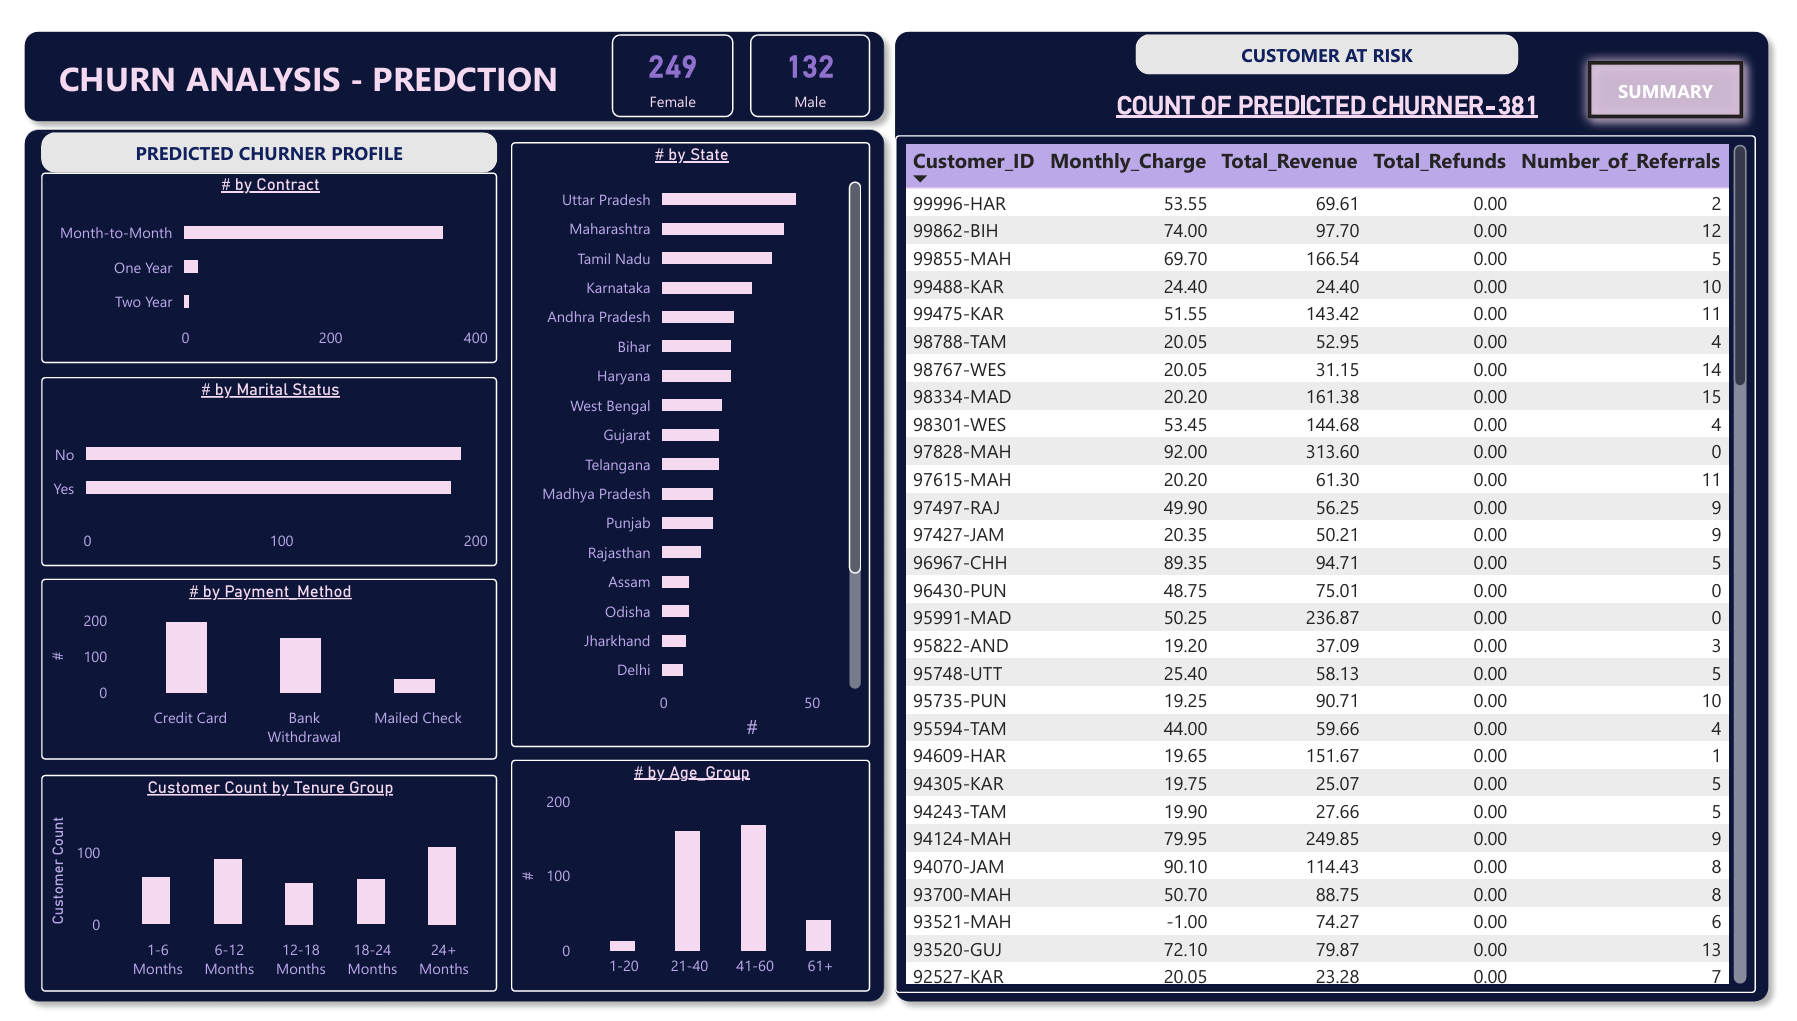

The dashboard page shown, as its layout file describes it:
{"tool":"powerbi","page":{"name":"prediction","canvas":[1280,720],"ordinal":1},"visuals":[{"type":"shape","box":[629.8,0,650.4,720.4],"z":0},{"type":"shape","box":[0,0,639.5,83.2],"z":500},{"type":"tableEx","fields":{"Values":["Prediction.Customer_ID","Prediction.Monthly_Charge","Prediction.Total_Revenue","Prediction.Total_Refunds","Prediction.Number_of_Referrals"]},"box":[639.5,83.7,623,621.6],"z":1000},{"type":"card","fields":{"Values":["Prediction.Title Predicted Churner"]},"box":[783.5,41.2,336.2,42.5],"z":2000},{"type":"shape","box":[0,70.9,639.5,649.3],"z":2500},{"type":"card","fields":{"Values":["Prediction.Count predicted Churner"]},"box":[434.1,11,88,59.9],"z":3000},{"type":"card","fields":{"Values":["Prediction.Count predicted Churner"]},"box":[534.4,11,86.8,59.9],"z":4000},{"type":"columnChart","fields":{"Category":["Mapping_age.Age_Group"],"Y":["CountNonNull(Prediction.Customer_ID)"]},"box":[360.7,535.6,260.5,168.8],"z":5000},{"type":"barChart","fields":{"Category":["Prediction.Married"],"Y":["CountNonNull(Prediction.Customer_ID)"]},"box":[20.8,259.2,330.2,137],"z":6000},{"type":"columnChart","fields":{"Y":["CountNonNull(Prediction.Customer_ID)"],"Category":["Mapping_Tenure.Tenure Group"]},"box":[20.8,546.6,330.2,157.7],"z":7000},{"type":"columnChart","fields":{"Category":["Prediction.Payment_Method"],"Y":["CountNonNull(Prediction.Customer_ID)"]},"box":[20.8,404.8,330.2,130.8],"z":8000},{"type":"barChart","fields":{"Category":["Prediction.Contract"],"Y":["CountNonNull(Prediction.Customer_ID)"]},"box":[20.8,111.3,330.2,138.2],"z":9000},{"type":"barChart","fields":{"Category":["Prediction.State"],"Y":["CountNonNull(Prediction.Customer_ID)"]},"box":[360.7,89.3,260.5,437.8],"z":10000},{"type":"textbox","box":[20.8,20.8,387.6,50.1],"z":10001},{"type":"shape","box":[813.2,11,276.4,29.3],"z":10002},{"type":"shape","box":[20.8,81.9,330.2,29.3],"z":10003},{"type":"actionButton","box":[1131.1,20.8,130.8,59.9],"z":10004}]}

Visuals, with their boxes in screenshot pixels (x1, y1, x2, y2), scaled from the page's 1280x720 canvas onto the 1797x1021 screenshot:
shape: locate(884, 0, 1796, 1020)
shape: locate(0, 0, 898, 118)
tableEx - Prediction.Customer_ID x Prediction.Monthly_Charge: locate(898, 119, 1772, 1000)
card - Prediction.Title Predicted Churner: locate(1100, 58, 1572, 119)
shape: locate(0, 101, 898, 1020)
card - Prediction.Count predicted Churner: locate(609, 16, 733, 101)
card - Prediction.Count predicted Churner: locate(750, 16, 872, 101)
columnChart - Mapping_age.Age_Group x CountNonNull(Prediction.Customer_ID): locate(506, 760, 872, 999)
barChart - Prediction.Married x CountNonNull(Prediction.Customer_ID): locate(29, 368, 493, 562)
columnChart - CountNonNull(Prediction.Customer_ID) x Mapping_Tenure.Tenure Group: locate(29, 775, 493, 999)
columnChart - Prediction.Payment_Method x CountNonNull(Prediction.Customer_ID): locate(29, 574, 493, 760)
barChart - Prediction.Contract x CountNonNull(Prediction.Customer_ID): locate(29, 158, 493, 354)
barChart - Prediction.State x CountNonNull(Prediction.Customer_ID): locate(506, 127, 872, 747)
textbox: locate(29, 29, 573, 101)
shape: locate(1142, 16, 1530, 57)
shape: locate(29, 116, 493, 158)
actionButton: locate(1588, 29, 1772, 114)
